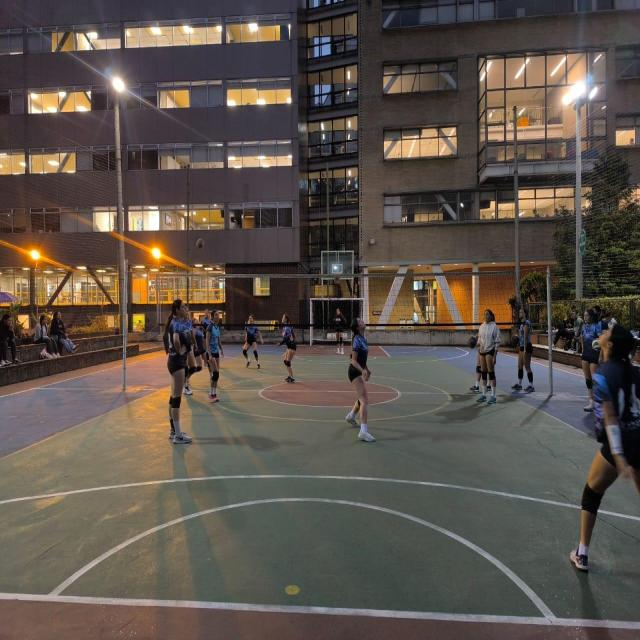volleyball: (592, 338, 602, 352), (468, 335, 476, 348), (511, 334, 519, 347), (196, 238, 204, 250)
